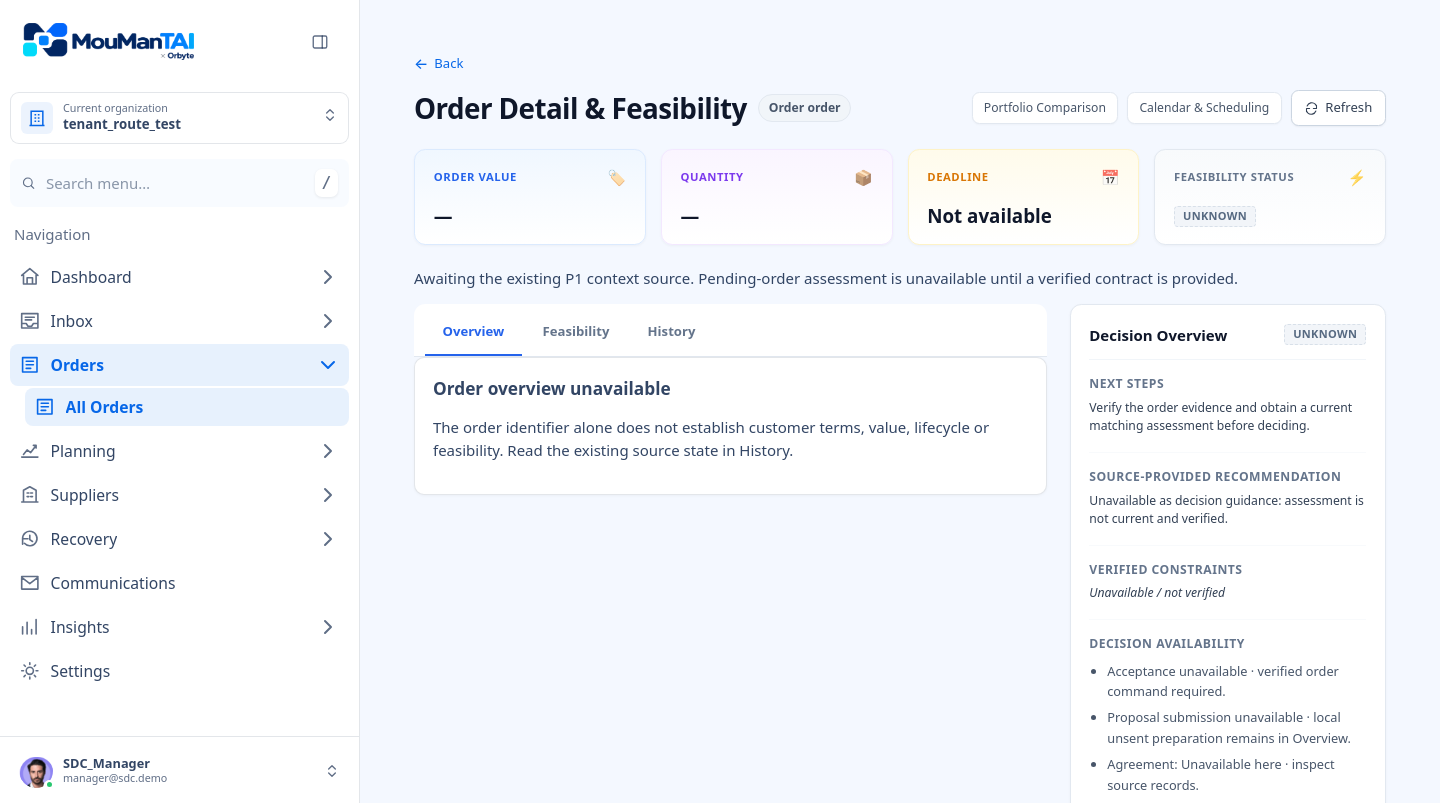
it: Real App communication route › mounts Main's real order context route and preserves its unavailable state
This screenshot has width=1440, height=803.
Click the tab "History": (671, 333) [630, 309, 713, 356]
(page scrolled)
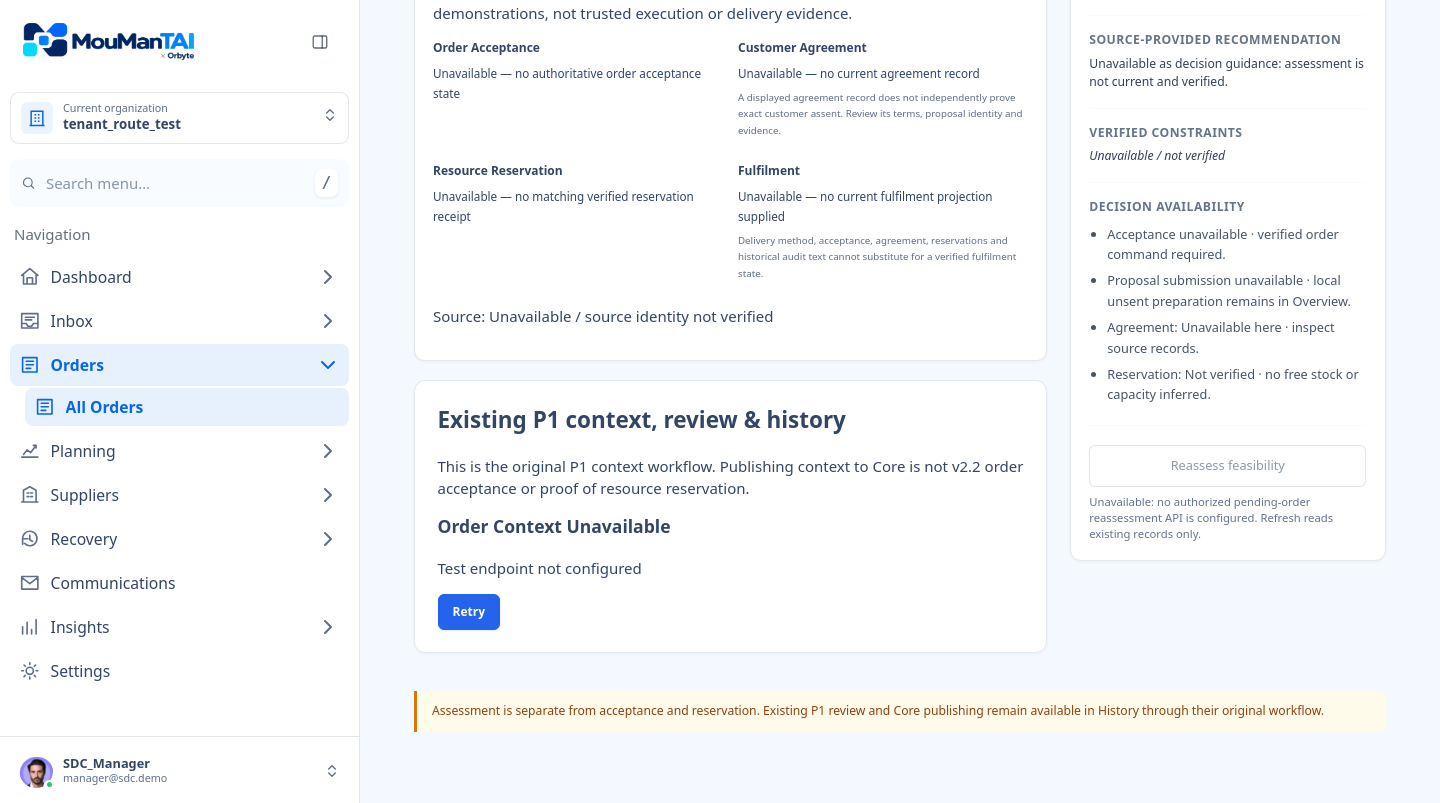
Check: the heading "Order Context Unavailable" is shown, box [438, 514, 670, 538]
Check: the button "Retry" is shown, box [438, 594, 500, 630]
